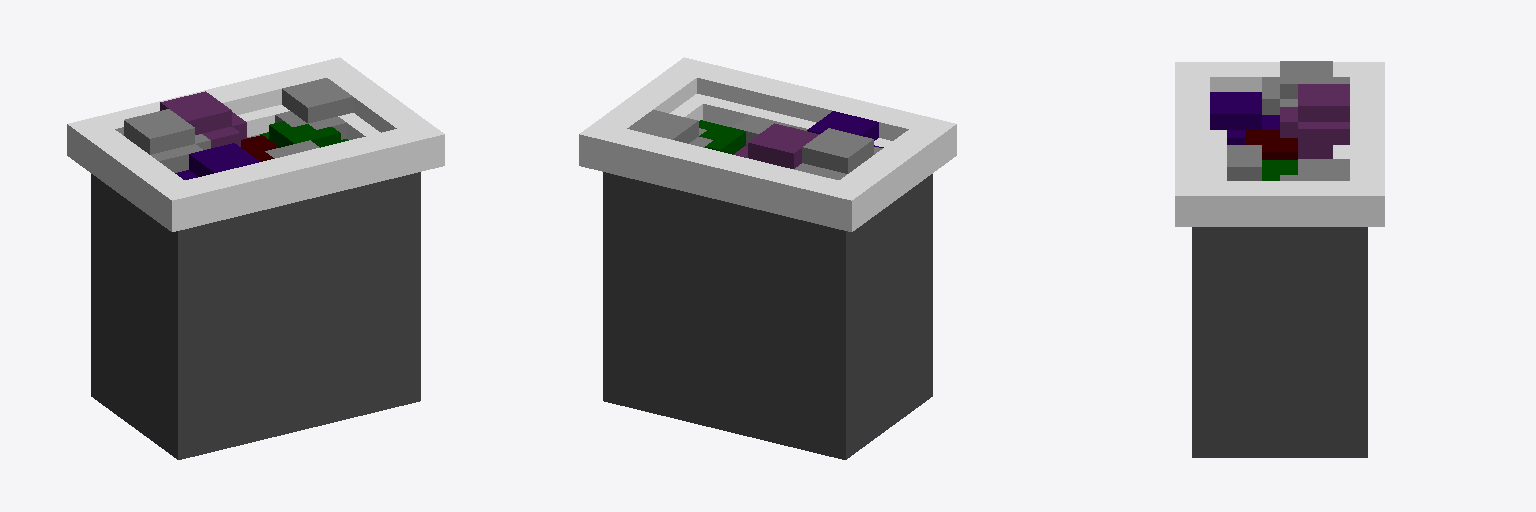
3 views of the same model, side by side, from view 1: azimuth 30°, elevation 25°; view 2: azimuth 150°, elevation 25°; view 3: azimuth 270°, elevation 25° (orthographic).
Parts seen in each view (by area): view 1: object 1; view 2: object 1; view 3: object 1.
Part boxes in pixels (x1,y1,x2,y2): object 1: (67,57,444,459); object 1: (579,57,956,459); object 1: (1175,61,1384,457).
Bounding box in the file's own units: 1.8 × 1.8 × 1.2.
Materials: 1 (1 with a texture image).